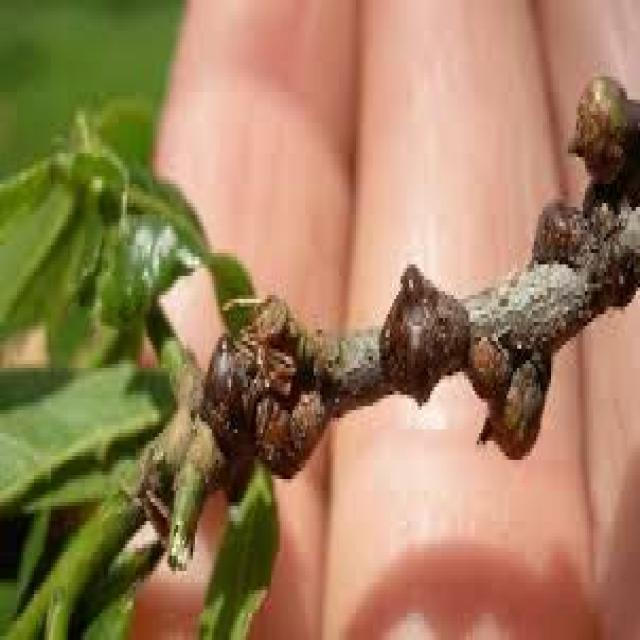Black Scale: (199, 295, 335, 488), (528, 199, 638, 322), (377, 261, 468, 402), (466, 310, 551, 457), (568, 77, 638, 207)
